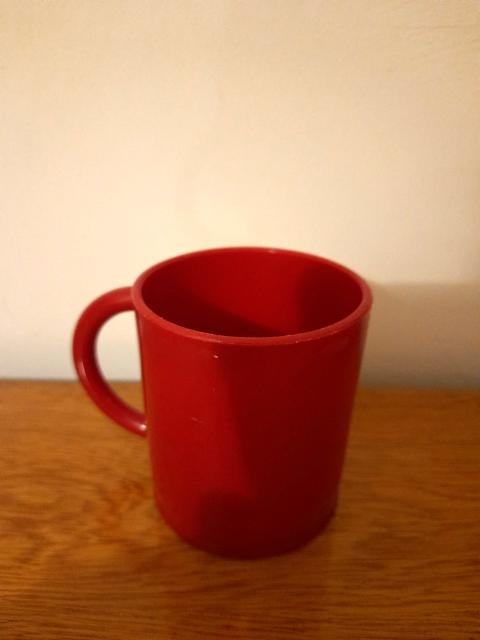Cup: (73, 248, 371, 558)
